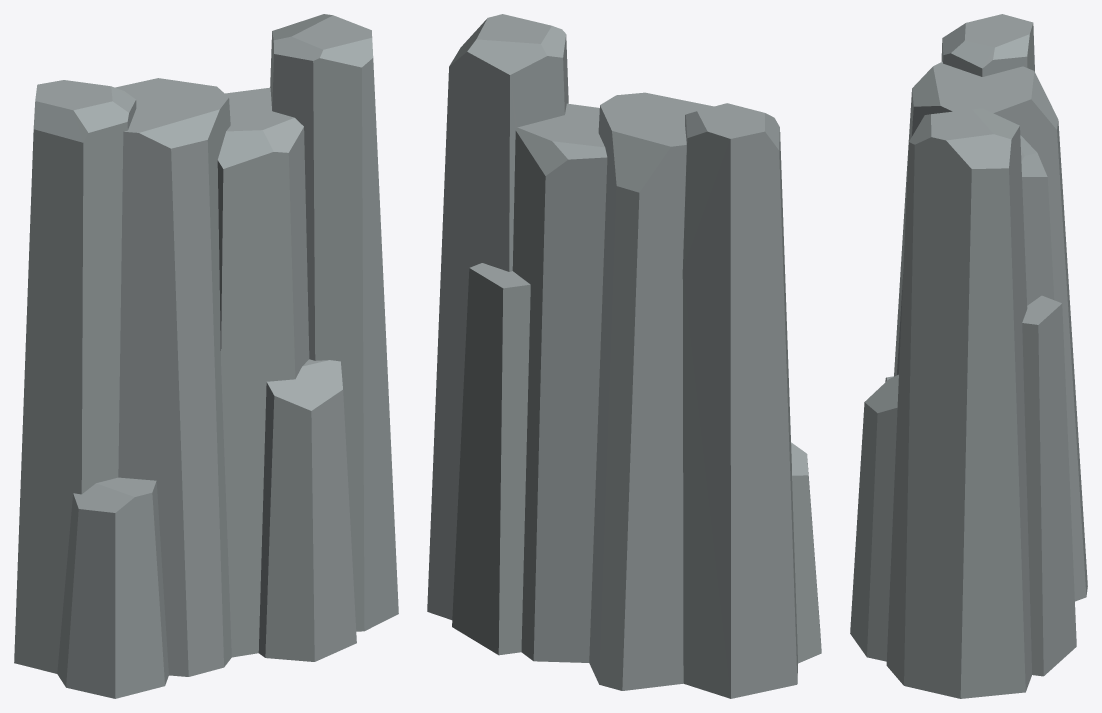
The model's file is NHP_Rock_Wall_A2_02.fbx.
3 views of the same model, side by side, from view 1: azimuth 30°, elevation 25°; view 2: azimuth 150°, elevation 25°; view 3: azimuth 270°, elevation 25° (orthographic). The views are drawn at different scales.
Parts seen in each view (by area): view 1: NHP_Rock_Wall_A2_02; view 2: NHP_Rock_Wall_A2_02; view 3: NHP_Rock_Wall_A2_02.
Boxes of the visible parts, <box> form: NHP_Rock_Wall_A2_02: <box>14,14,398,698</box>; NHP_Rock_Wall_A2_02: <box>427,14,821,698</box>; NHP_Rock_Wall_A2_02: <box>850,14,1087,698</box>.
Bounding box in the file's own units: 3.21 × 4.76 × 1.89.
